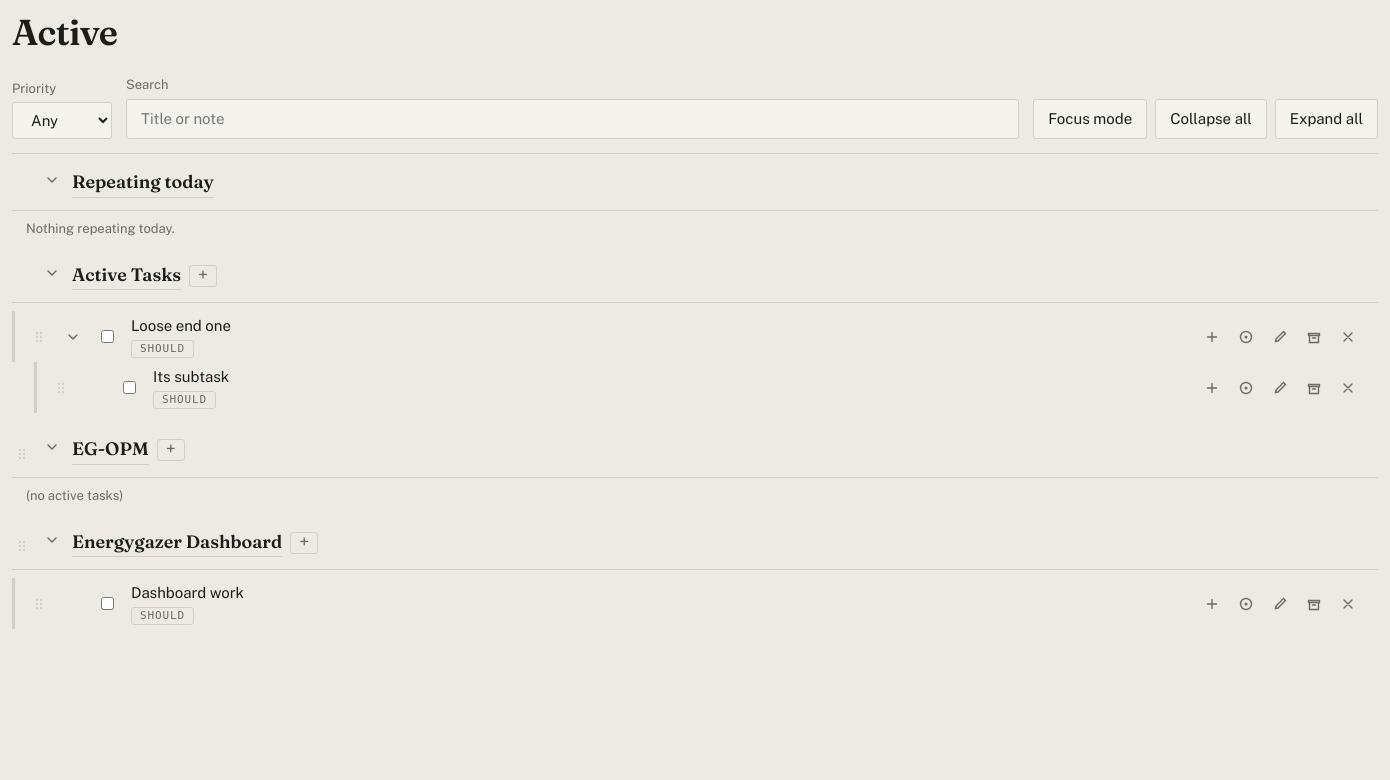
Test: collapsing › folds a category away, keeping its heading
Expected: the text "Loose end one" is shown, [131,317,231,334]
Click the 2nd button named "collapse Active Tasks": (52, 272) [40,260,64,284]
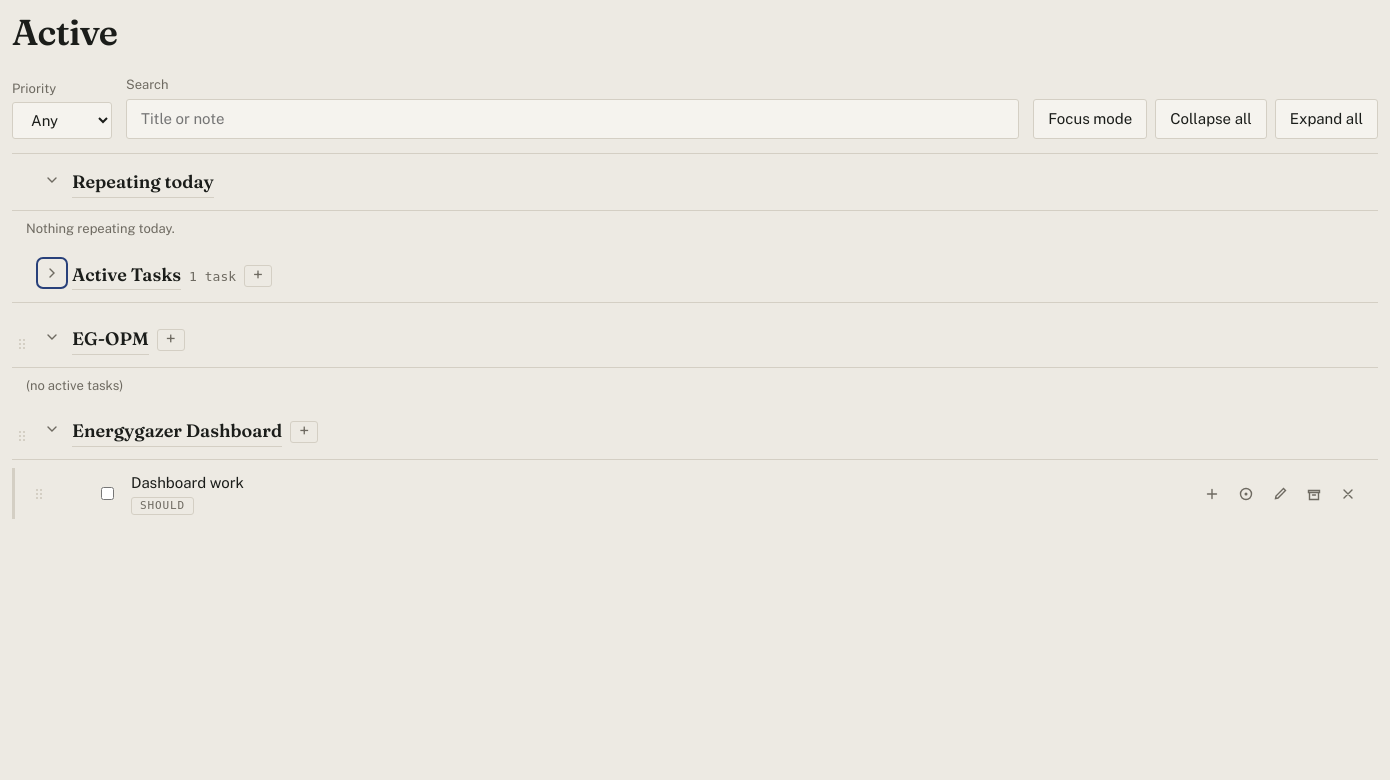
Expected: the heading "Active Tasks" is shown, [72,264,181,290]
Expected: the text "Loose end one" is gone
